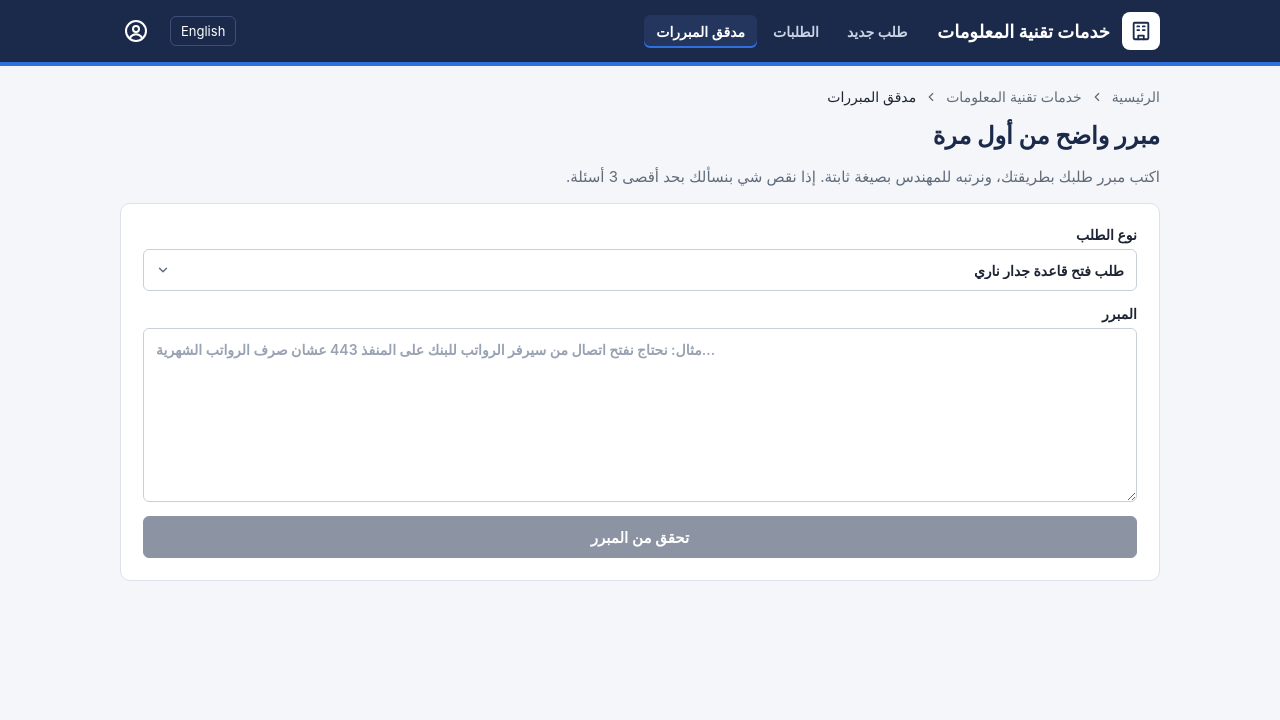
Test: switching to English flips direction
The width and height of the screenshot is (1280, 720).
Click the button "English".
click(203, 31)  # box [170,16,236,46]
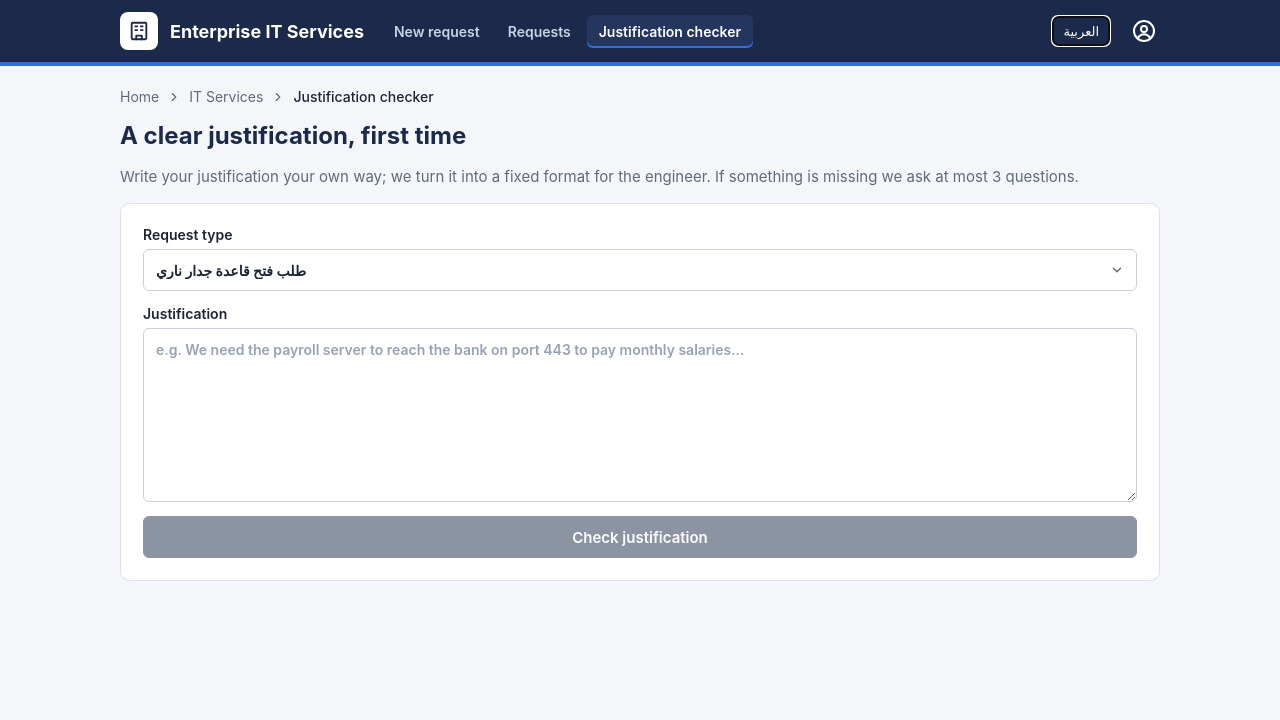
Check: the button "Check justification" is shown, box [143,516,1137,558]
